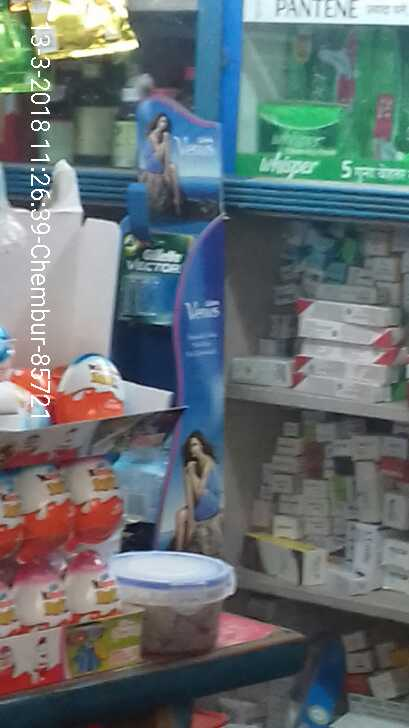gillette: (108, 220, 194, 343)
